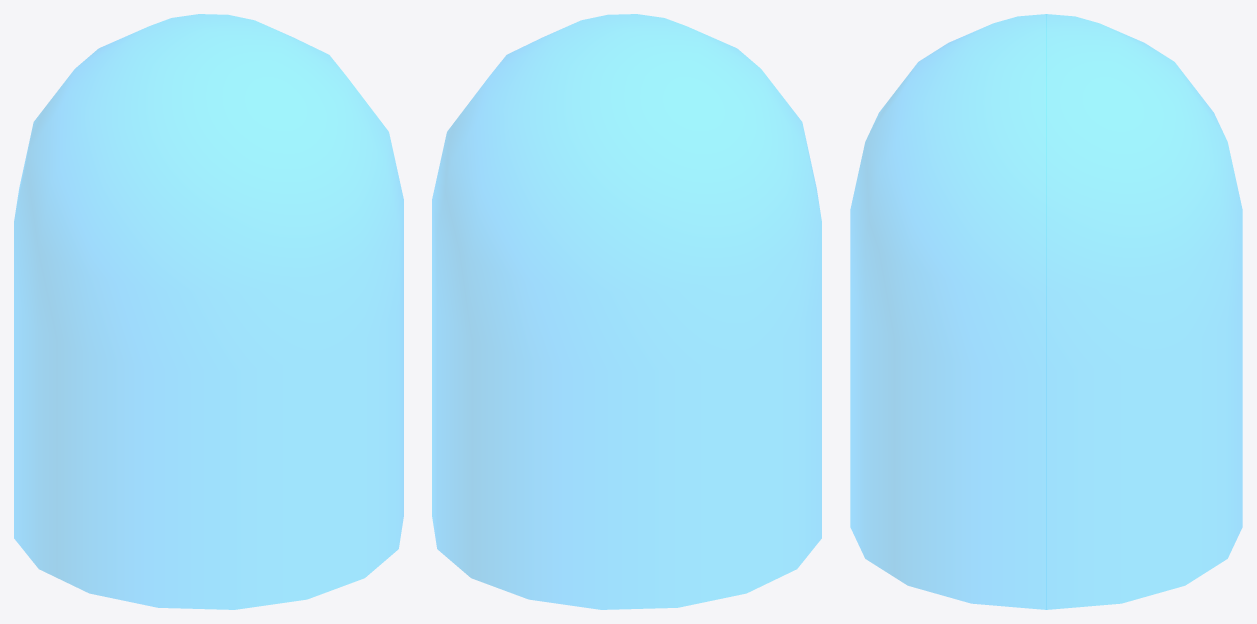
3 renders of one model, left to right at view 1: azimuth 30°, elevation 25°; view 2: azimuth 150°, elevation 25°; view 3: azimuth 270°, elevation 25°, orthographic.
Parts seen in each view (by area): view 1: Capsule.001; view 2: Capsule.001; view 3: Capsule.001.
Boxes of the visible parts, x1=… form: Capsule.001: x1=14, y1=14, x2=403, y2=609; Capsule.001: x1=432, y1=14, x2=821, y2=609; Capsule.001: x1=850, y1=14, x2=1242, y2=609.
Size of what is drawn, in the model's own units: 2 by 2.78 by 2.
1 material, 1 textured.
